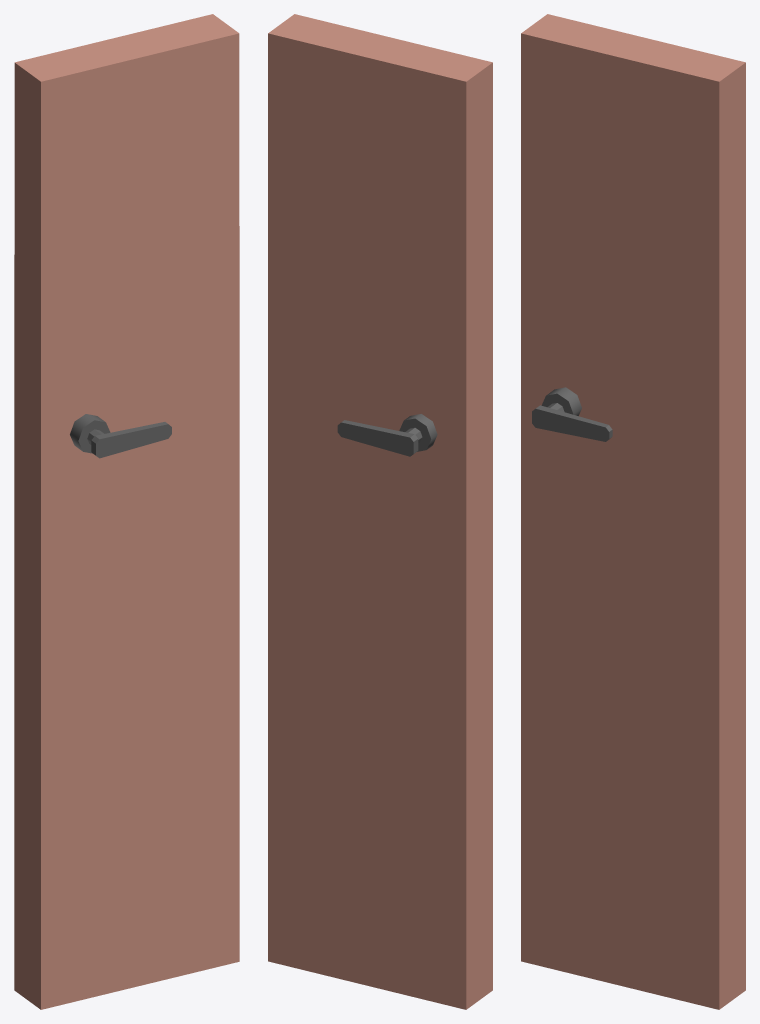
File: Door.glb
3 views of the same model, side by side, from view 1: azimuth 30°, elevation 25°; view 2: azimuth 150°, elevation 25°; view 3: azimuth 330°, elevation 25° (orthographic).
Visible parts, largest first — view 1: pSphere4; view 2: pSphere4; view 3: pSphere4.
Boxes of the visible parts, x1,y1,x2,y2 form: pSphere4: (14, 14, 239, 1009); pSphere4: (268, 14, 492, 1009); pSphere4: (521, 14, 745, 1009).
Size of the model in its own units: 0.5481 by 2.45 by 0.3269.
